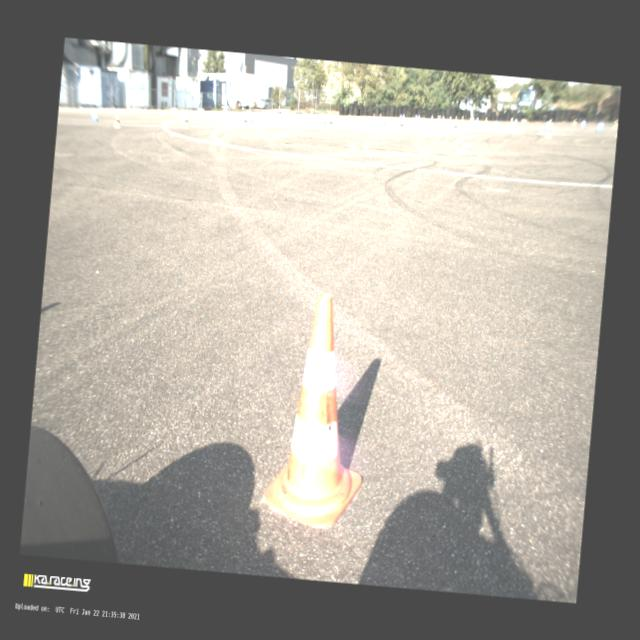large_orange_cone: (262, 289, 378, 531)
yellow_cone: (112, 114, 121, 128)
